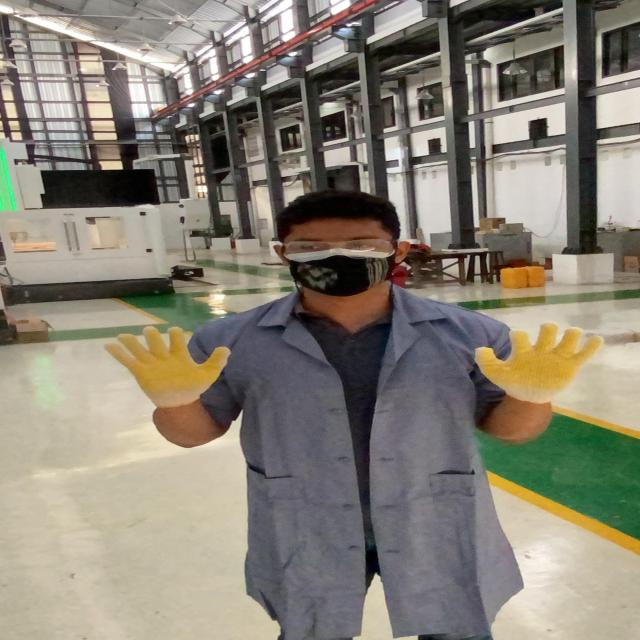face_mask: (274, 235, 399, 296)
glasses: (271, 235, 409, 262)
hand_glove: (97, 322, 243, 415), (458, 322, 606, 402)
head_nohelmet: (276, 189, 392, 233)
person: (111, 190, 591, 640)
